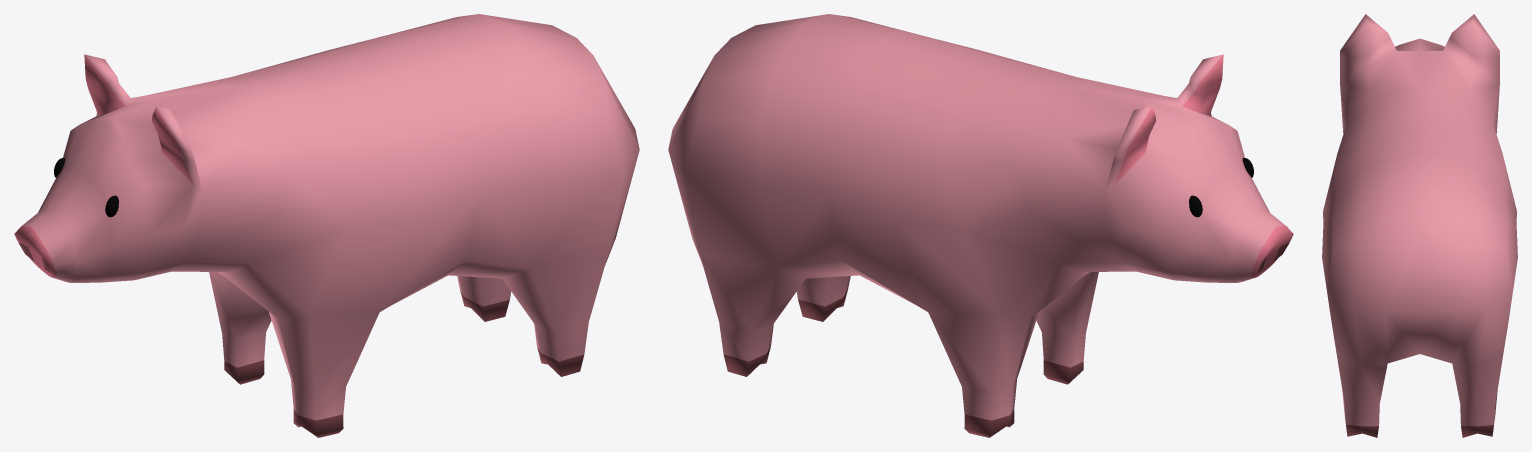
File: Pig3.fbx
3 views of the same model, side by side, from view 1: azimuth 30°, elevation 25°; view 2: azimuth 150°, elevation 25°; view 3: azimuth 270°, elevation 25° (orthographic). The views are drawn at different scales.
Visible parts, largest first — view 1: PIG; view 2: PIG; view 3: PIG.
Boxes of the visible parts, x1,y1,x2,y2 form: PIG: (14, 14, 639, 437); PIG: (668, 14, 1293, 437); PIG: (1322, 14, 1517, 437).
Size of the model in its own units: 456 by 267 by 173.
